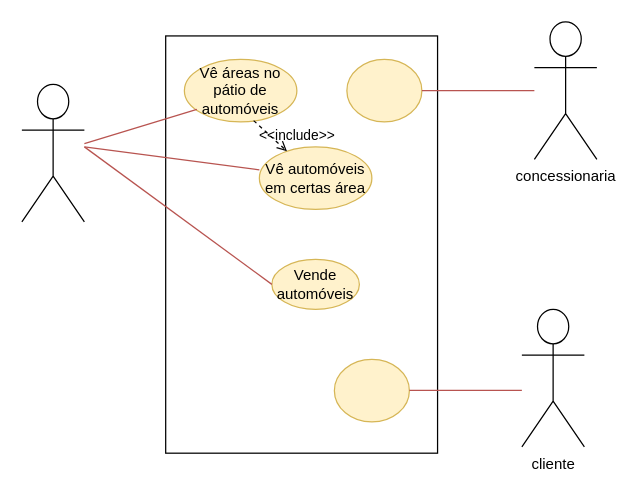
Image size: 638x495. Some labels were removed from this diagram. Each missing label, with the centre of its shape:
"Compra automóvel" belongs at (371,390).
"Distribui automóvel" belongs at (384,90).
"vendedor" belongs at (52,152).
